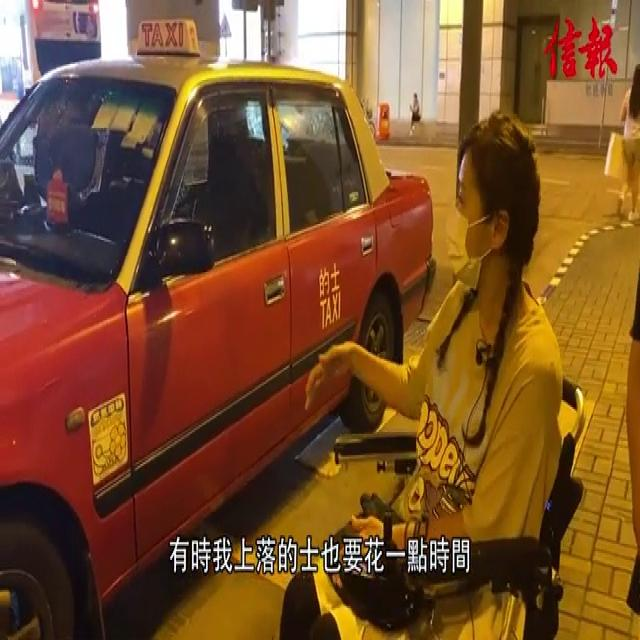wheelchairs: (323, 356, 593, 640)
